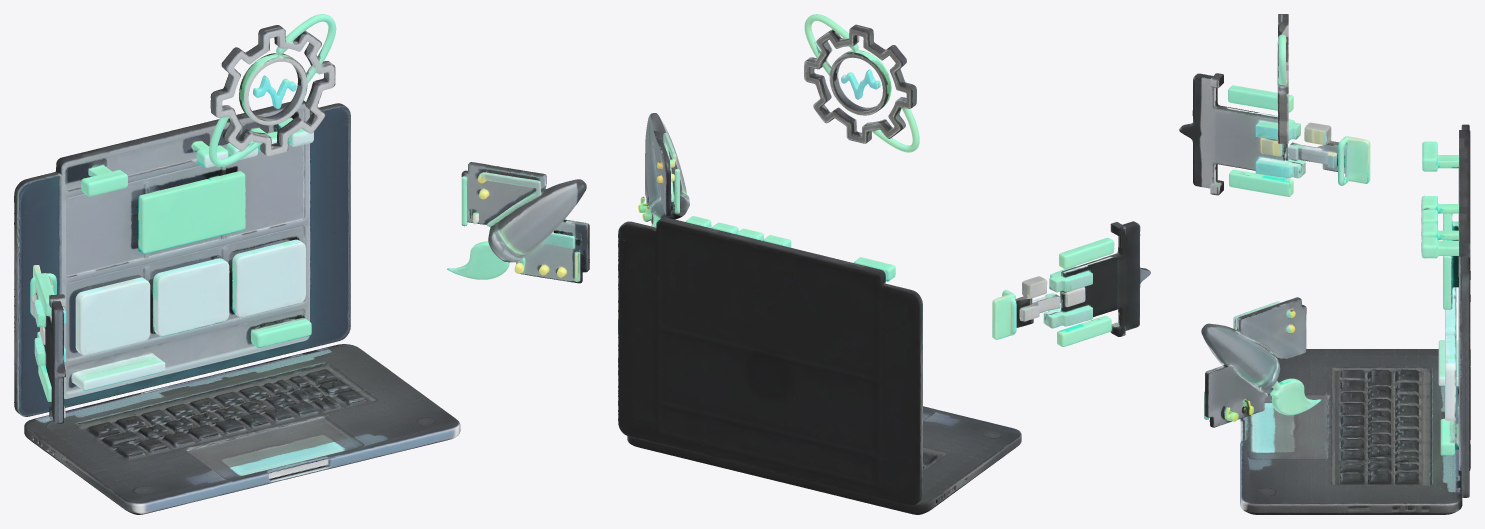
File: web_1.glb
3 renders of one model, left to right at view 1: azimuth 30°, elevation 25°; view 2: azimuth 150°, elevation 25°; view 3: azimuth 270°, elevation 25°, orthographic. The views are drawn at different scales.
Size of the model in its own units: 1.9 by 1.47 by 0.9147.
1 material, 1 textured.
